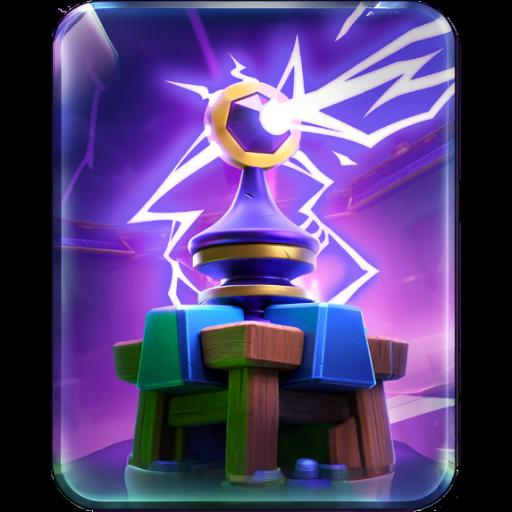tesla-evo: (66, 11, 450, 497)
